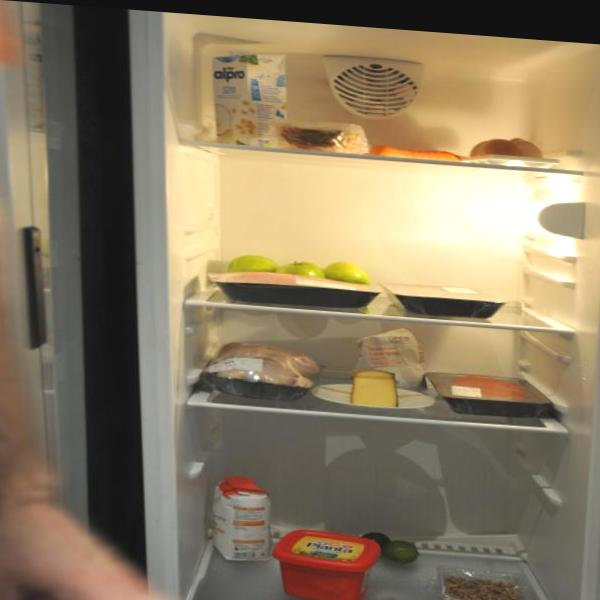apple: (239, 246, 379, 293)
carrots: (370, 134, 463, 170)
cheese: (347, 364, 412, 427)
chicken: (214, 334, 319, 413)
eggs: (475, 131, 556, 187)
lime: (363, 534, 422, 580)
meat: (430, 362, 564, 435), (214, 270, 381, 321), (384, 276, 504, 322)
milk: (210, 39, 290, 150)
